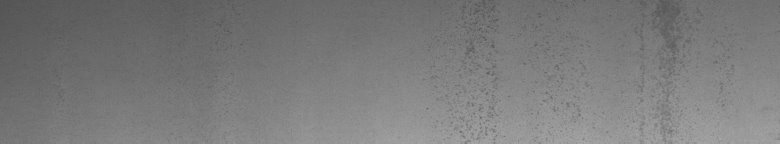ib: (445, 4, 581, 136)
